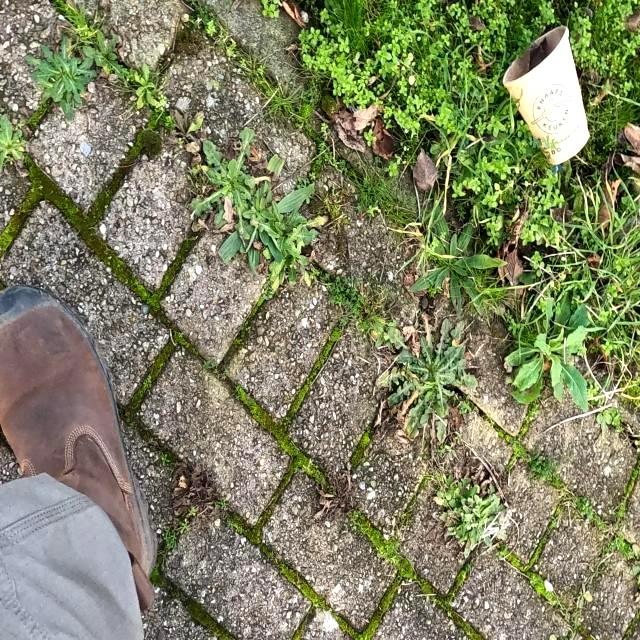Coffee Cup: (500, 19, 596, 178)
